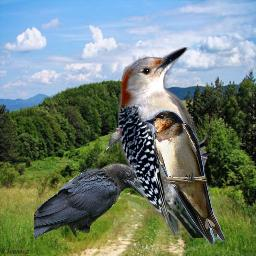Crow: (34, 162, 145, 239)
Swallow: (144, 110, 225, 245)
Woodpecker: (118, 47, 211, 238), (105, 127, 122, 150)
